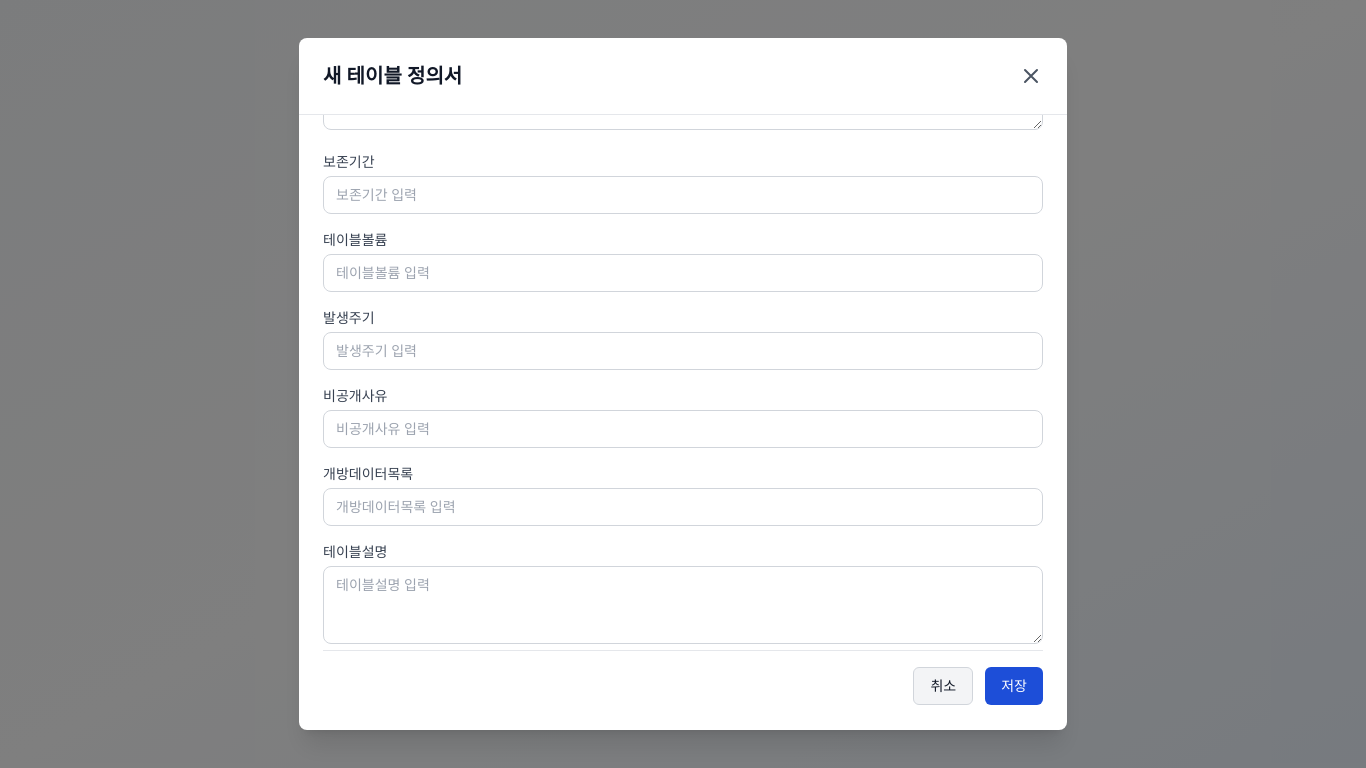
TableDefEditor › Form Validation › should show error message when form is submitted with empty required fields
The image size is (1366, 768).
(page scrolled)
What coordinates should you click on to do the following:
click the button "저장"
I would click on:
 (1014, 686)
Its box is [985,667,1043,705].
(page scrolled)
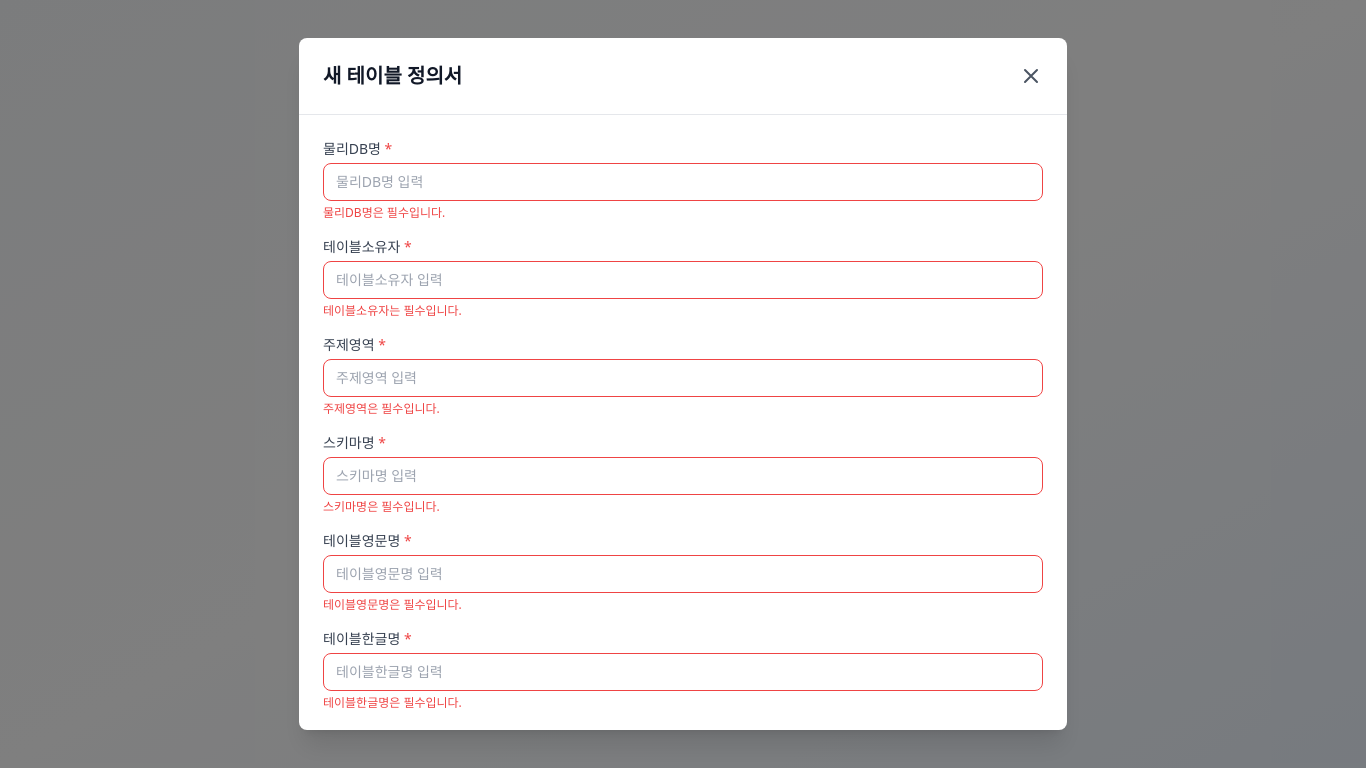
Expected: the text "물리DB명은 필수입니다." is shown, [323,204,445,221]
